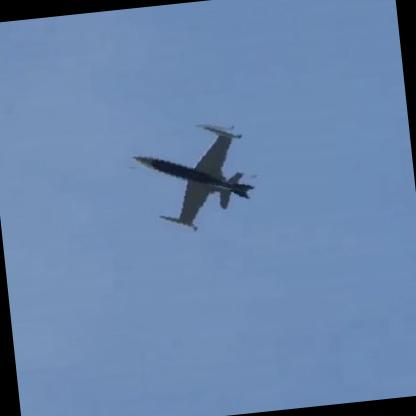plane: (120, 111, 266, 243)
